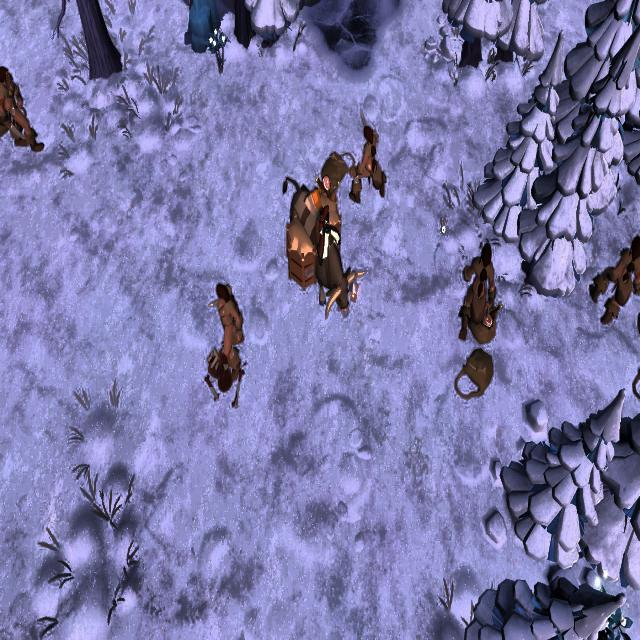enemy_factionKeeper: (586, 233, 640, 327), (0, 65, 45, 156), (342, 115, 388, 201), (212, 278, 249, 383), (457, 237, 495, 331)
fiber_t4: (208, 26, 228, 72)
rock_t4: (181, 0, 220, 59)
